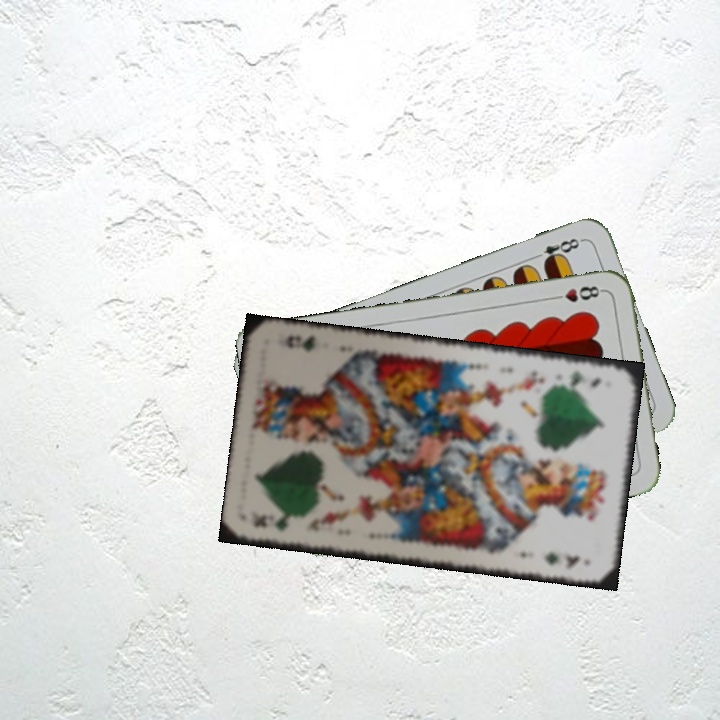E8: (529, 234, 586, 268)
GK: (247, 509, 293, 533), (565, 369, 604, 390)
H8: (547, 282, 606, 305)
